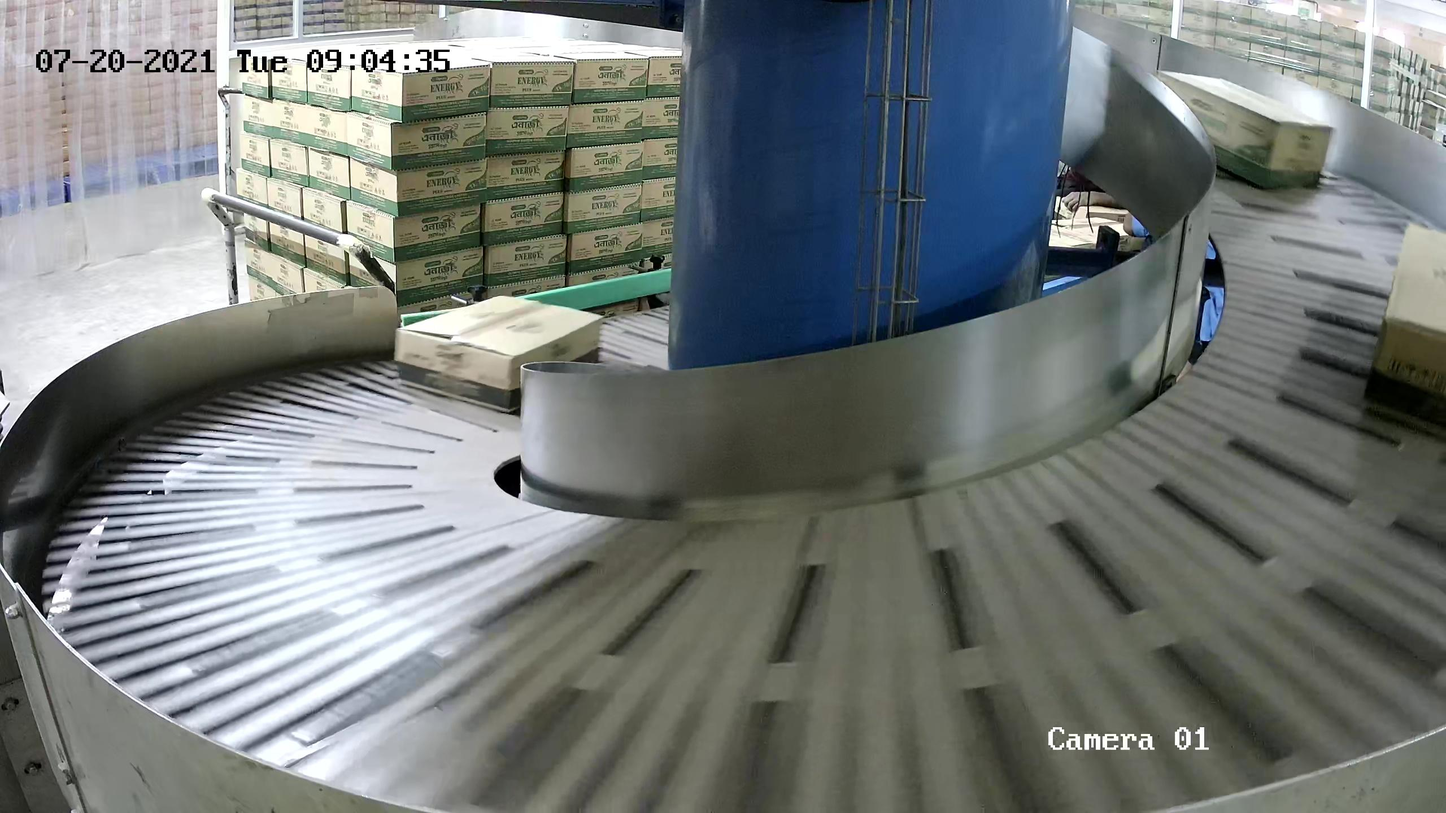Box: (392, 294, 603, 415), (1152, 67, 1336, 192), (1361, 222, 1446, 430)
